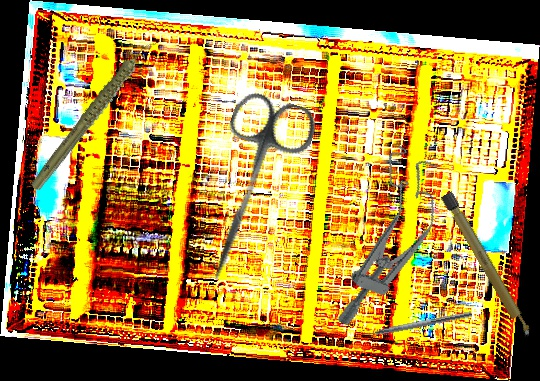Chopper: (356, 303, 473, 341)
Handpiece: (5, 37, 184, 194)
Iris Scissors: (180, 86, 321, 295)
Scalpel Handle: (440, 191, 534, 340)
Speculum: (324, 143, 456, 341)
